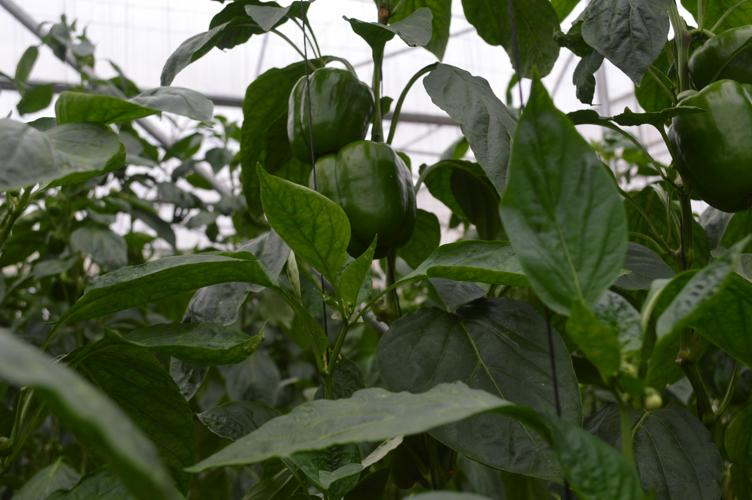BellPepper: (659, 83, 752, 221), (305, 155, 418, 256), (281, 62, 369, 141)
